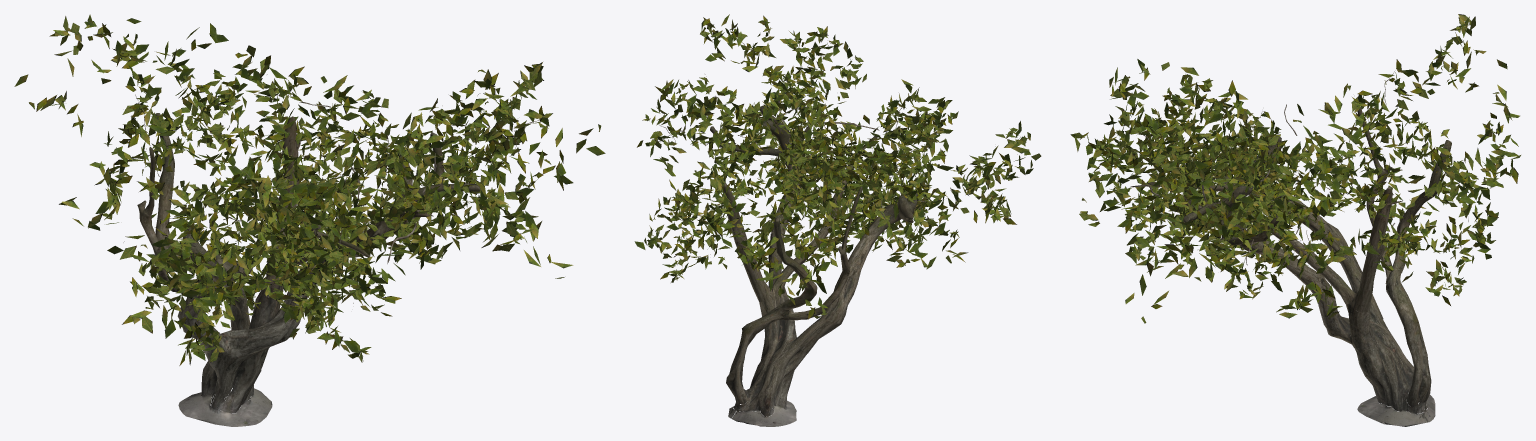
Rendered from island_tree_02.gltf.
The picture shows the model from 3 angles, left to right: view 1: azimuth 30°, elevation 25°; view 2: azimuth 150°, elevation 25°; view 3: azimuth 270°, elevation 25°; orthographic projection. The views are drawn at different scales.
Parts seen in each view (by area): view 1: island_tree_02; view 2: island_tree_02; view 3: island_tree_02.
Boxes of the visible parts, bbox=[...] form: island_tree_02: bbox=[14, 14, 605, 426]; island_tree_02: bbox=[634, 14, 1041, 426]; island_tree_02: bbox=[1070, 14, 1520, 426].
Bounding box in the file's own units: 3.81 × 3.39 × 4.02.
1 material, 1 textured.
